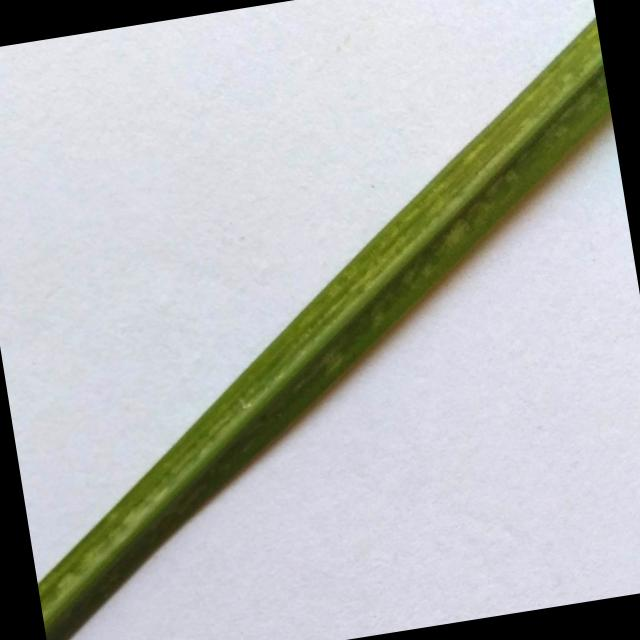Rice_Healthy: (38, 19, 610, 640)
